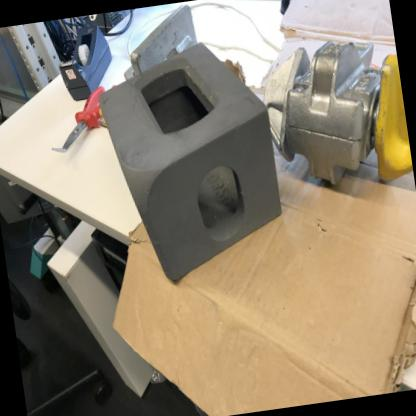CornerCasting: (90, 31, 288, 299)
Twistlock: (251, 25, 413, 199), (106, 0, 218, 93)
